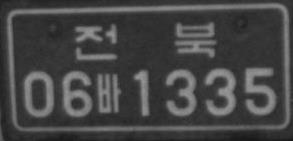0: (23, 70, 54, 117)
1: (129, 68, 158, 116)
3: (203, 67, 237, 117), (165, 68, 197, 116)
5: (244, 67, 276, 116)
6: (61, 69, 93, 117)
바: (96, 72, 122, 113)
전북_D: (74, 20, 217, 60)
